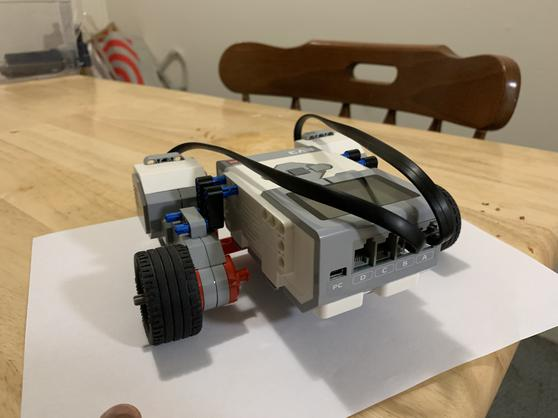robot: (93, 106, 466, 352)
